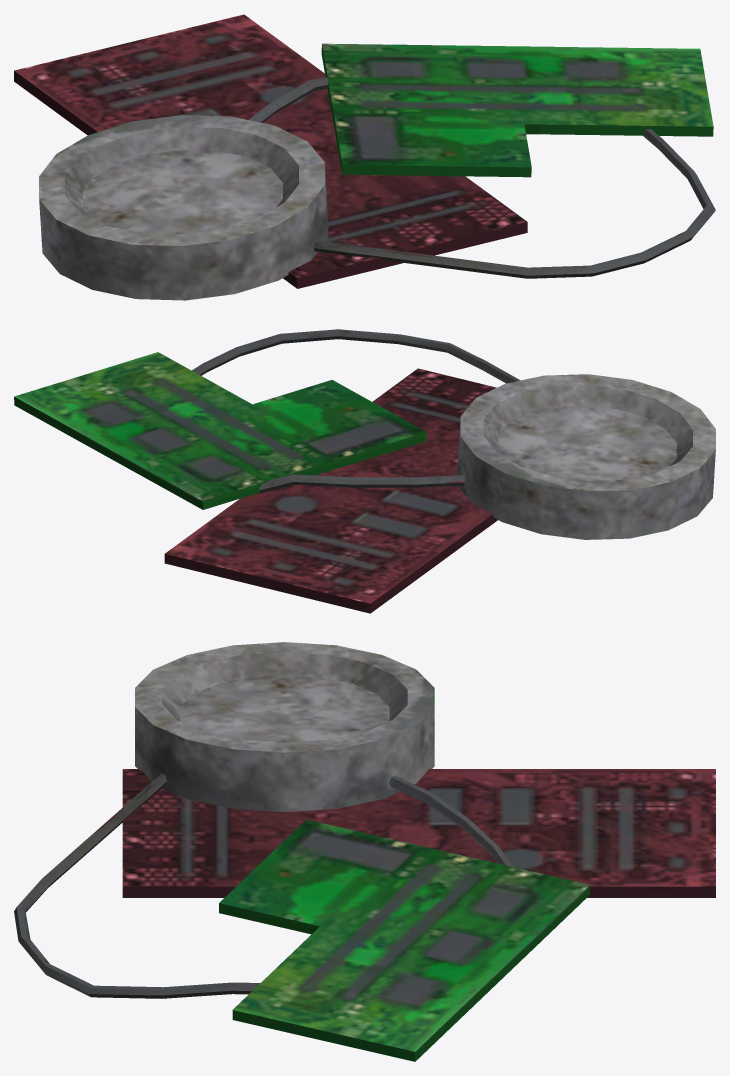
The model's file is electrical_scraps02.DAE.
3 renders of one model, top to bottom at view 1: azimuth 30°, elevation 25°; view 2: azimuth 150°, elevation 25°; view 3: azimuth 270°, elevation 25°, orthographic. The views are drawn at different scales.
Parts seen in each view (by area): view 1: electrical_scraps02_copy; view 2: electrical_scraps02_copy; view 3: electrical_scraps02_copy.
Boxes of the visible parts, x1,y1,x2,y2 form: electrical_scraps02_copy: (14,14,715,300); electrical_scraps02_copy: (14,329,715,613); electrical_scraps02_copy: (14,642,715,1061).
Size of the model in its own units: 18.3 by 2.01 by 15.05.
